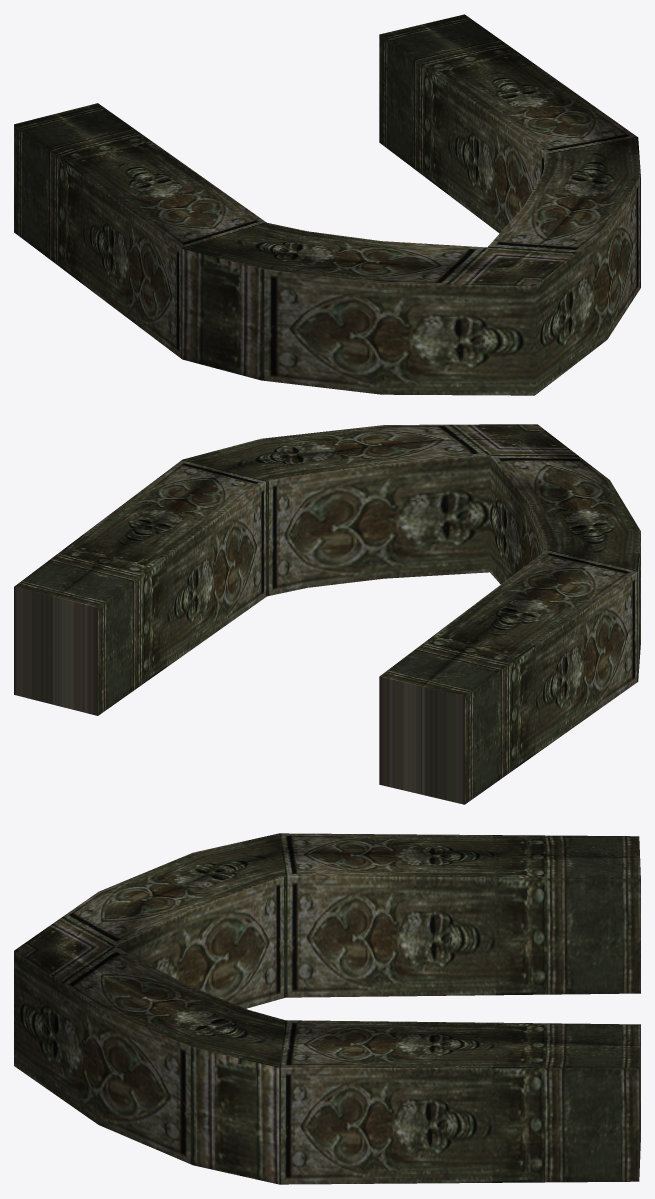
Rendered from gate_15.obj.
The picture shows the model from 3 angles, top to bottom: view 1: azimuth 30°, elevation 25°; view 2: azimuth 150°, elevation 25°; view 3: azimuth 270°, elevation 25°; orthographic projection. The views are drawn at different scales.
Visible parts, largest first — view 1: (null); view 2: (null); view 3: (null).
Boxes of the visible parts, x1,y1,x2,y2 form: (null): [14, 14, 640, 395]; (null): [14, 424, 640, 804]; (null): [14, 833, 640, 1184].
Bounding box in the file's own units: 2.24 × 0.5513 × 2.53.
